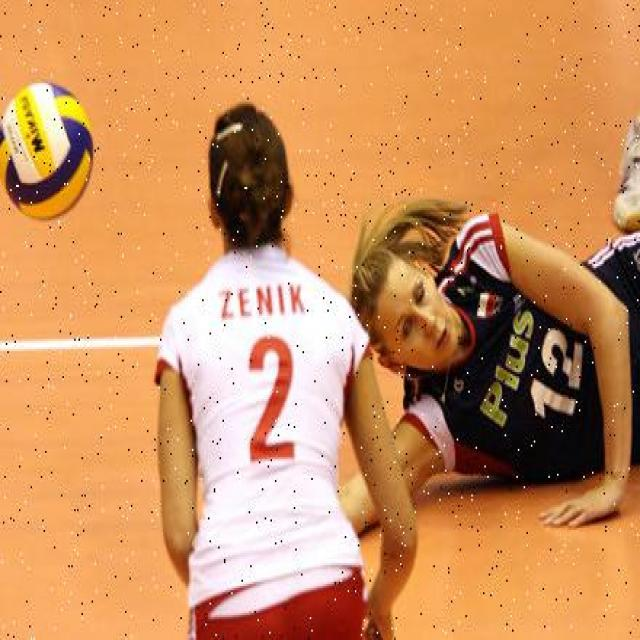fall: (361, 189, 638, 505)
